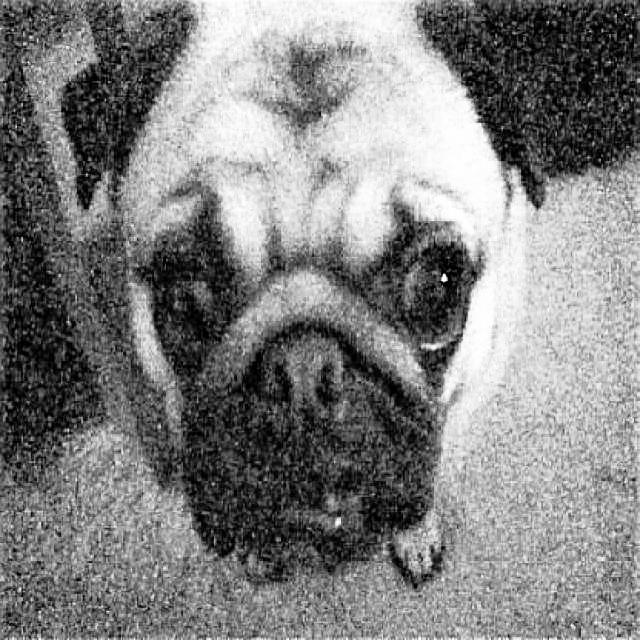Dog: (55, 0, 554, 603)
